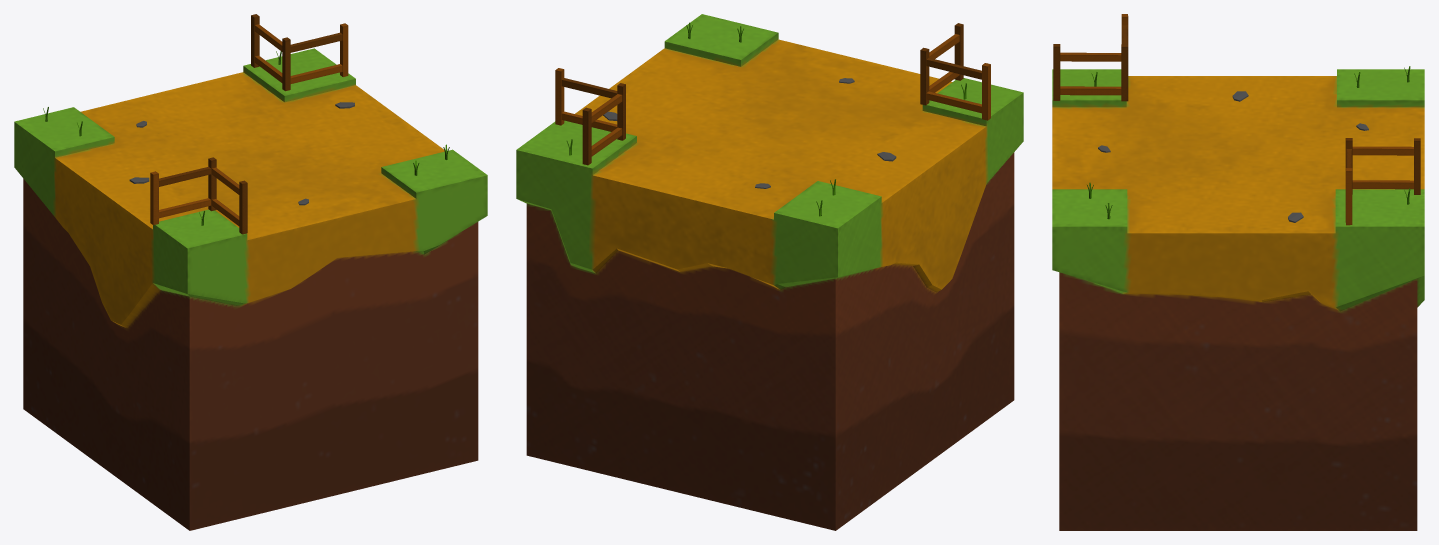
Rendered from Concepts_20.fbx.
3 renders of one model, left to right at view 1: azimuth 30°, elevation 25°; view 2: azimuth 150°, elevation 25°; view 3: azimuth 270°, elevation 25°, orthographic. The views are drawn at different scales.
Visible parts, largest first — view 1: Cube.171, Cube.172, Cube.173, Cube.017; view 2: Cube.171, Cube.172, Cube.173, Cube.017; view 3: Cube.171, Cube.173, Cube.172, Cube.017.
Boxes of the visible parts, bbox=[...] form: Cube.171: bbox=[14, 48, 487, 530]; Cube.172: bbox=[251, 14, 348, 91]; Cube.173: bbox=[150, 157, 247, 234]; Cube.017: bbox=[43, 51, 449, 225]; Cube.171: bbox=[516, 14, 1023, 530]; Cube.172: bbox=[555, 68, 625, 165]; Cube.173: bbox=[920, 23, 990, 120]; Cube.017: bbox=[566, 22, 966, 216]; Cube.171: bbox=[1052, 69, 1424, 530]; Cube.173: bbox=[1053, 14, 1128, 101]; Cube.172: bbox=[1345, 138, 1420, 225]; Cube.017: bbox=[1087, 66, 1410, 222].
Size of the model in its own units: 303 by 323 by 301.
